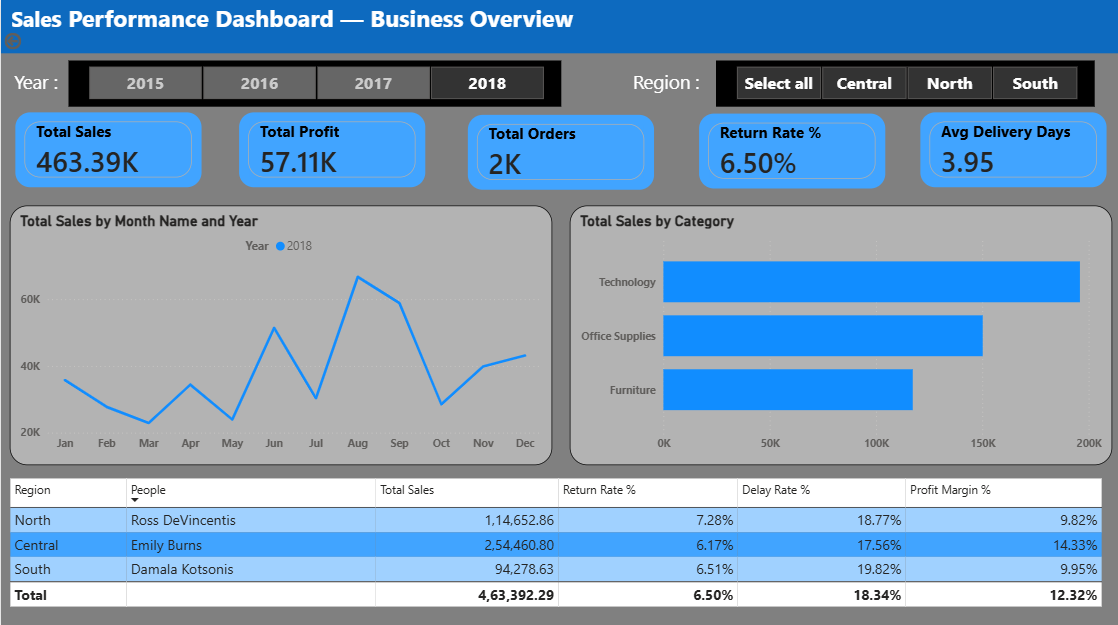

The page's visual inventory and layout, read from the dashboard file:
{"tool":"powerbi","page":{"name":"Page 1","canvas":[1280,720],"ordinal":0},"visuals":[{"type":"textbox","box":[0,0,1280,62.9],"z":0},{"type":"slicer","title":"Year","fields":{"Values":["Date.Year"]},"box":[77.1,71.4,562.9,52.9],"z":1000},{"type":"actionButton","box":[0,35.7,67.1,27.1],"z":2000},{"type":"cardVisual","fields":{"Data":["_Measures.Total Sales"]},"box":[10,124.3,225.7,98.6],"z":3000},{"type":"cardVisual","fields":{"Data":["_Measures.Total Profit"]},"box":[265.7,124.3,225.7,98.6],"z":4000},{"type":"cardVisual","fields":{"Data":["_Measures.Total Orders"]},"box":[527.1,127.1,225.7,98.6],"z":5000},{"type":"cardVisual","fields":{"Data":["_Measures.Return Rate %"]},"box":[791.4,125.7,225.7,98.6],"z":6000},{"type":"cardVisual","fields":{"Data":["_Measures.Avg Delivery Days"]},"box":[1044.3,124.3,225.7,98.6],"z":7000},{"type":"textbox","box":[10,75.7,100,44.3],"z":8000},{"type":"lineChart","fields":{"Y":["_Measures.Total Sales"],"Category":["Date.Month Name"],"Series":["Date.Year"]},"box":[10,237.1,620,297.1],"z":9000},{"type":"clusteredBarChart","fields":{"Category":["orders.Category"],"Y":["_Measures.Total Sales"]},"box":[650,237.1,620,297.1],"z":10000},{"type":"tableEx","fields":{"Values":["People.Region","People.People","_Measures.Total Sales","_Measures.Return Rate %","_Measures.Delay Rate %","_Measures.Profit Margin %"]},"box":[4.3,544.3,1270,165.7],"z":11000},{"type":"slicer","fields":{"Values":["People.Region"]},"box":[817.1,71.4,432.9,52.9],"z":12000},{"type":"textbox","box":[717.1,75.7,100,44.3],"z":13000}]}

Visuals, with their boxes in screenshot pixels (x1, y1, x2, y2), scaled from the page's 1280x720 canvas onto the 1118x625 screenshot:
textbox: 0,0,1117,55
"Year" slicer: 67,62,559,108
actionButton: 0,31,59,55
cardVisual - _Measures.Total Sales: 9,108,206,193
cardVisual - _Measures.Total Profit: 232,108,429,193
cardVisual - _Measures.Total Orders: 460,110,658,196
cardVisual - _Measures.Return Rate %: 691,109,888,195
cardVisual - _Measures.Avg Delivery Days: 912,108,1109,193
textbox: 9,66,96,104
lineChart - _Measures.Total Sales x Date.Month Name: 9,206,550,464
clusteredBarChart - orders.Category x _Measures.Total Sales: 568,206,1109,464
tableEx - People.Region x People.People: 4,472,1113,616
slicer - People.Region: 714,62,1092,108
textbox: 626,66,714,104
